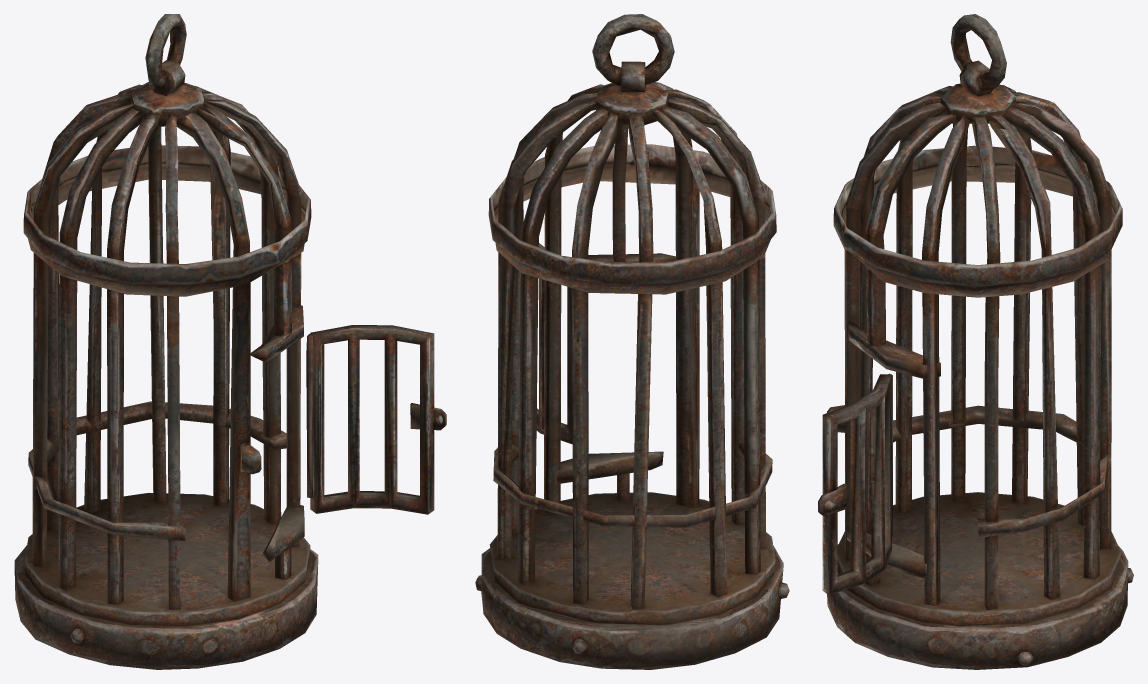
Rendered from gabbia.glb.
3 views of the same model, side by side, from view 1: azimuth 30°, elevation 25°; view 2: azimuth 150°, elevation 25°; view 3: azimuth 270°, elevation 25° (orthographic).
Parts seen in each view (by area): view 1: gabbia; view 2: gabbia; view 3: gabbia.
Part boxes in pixels (x1,y1,x2,y2): gabbia: (14, 14, 446, 669); gabbia: (475, 14, 789, 669); gabbia: (818, 14, 1133, 669).
Size of the model in its own units: 0.5884 by 0.9995 by 0.4849.
Materials: 1 (1 with a texture image).
